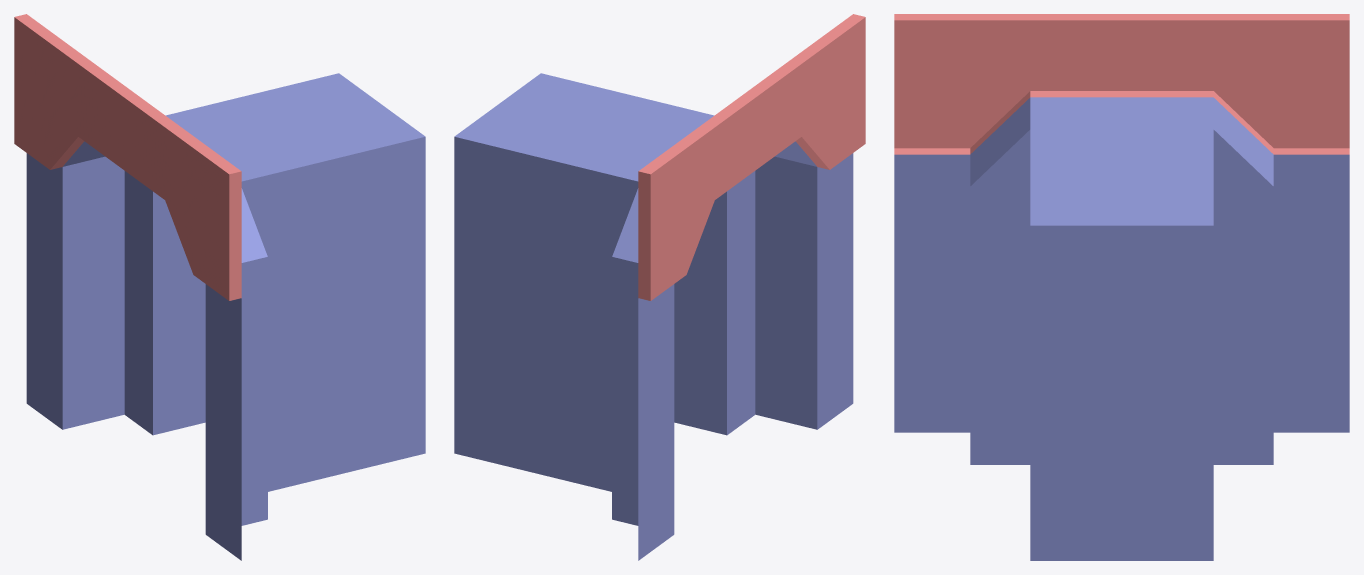
The model's file is Entrance2.FBX.
The picture shows the model from 3 angles, left to right: view 1: azimuth 30°, elevation 25°; view 2: azimuth 150°, elevation 25°; view 3: azimuth 270°, elevation 25°; orthographic projection. The views are drawn at different scales.
Parts seen in each view (by area): view 1: Entrance2; view 2: Entrance2; view 3: Entrance2.
Part boxes in pixels (<box>): Entrance2: <box>14,14,425,560</box>; Entrance2: <box>454,14,865,560</box>; Entrance2: <box>894,14,1349,560</box>.
Size of the model in its own units: 210 by 300 by 300.
